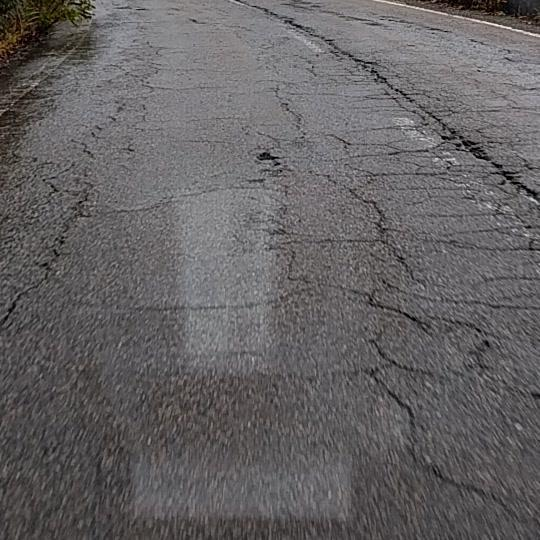D20: (214, 29, 539, 522), (4, 33, 166, 347)
D44: (386, 114, 539, 256)
